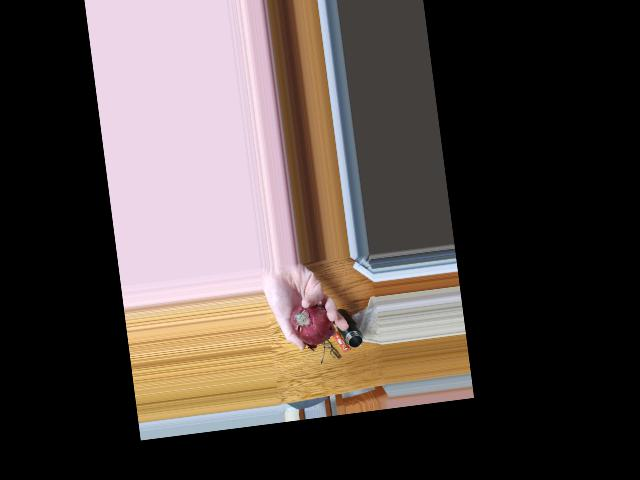onion: (285, 297, 329, 346)
